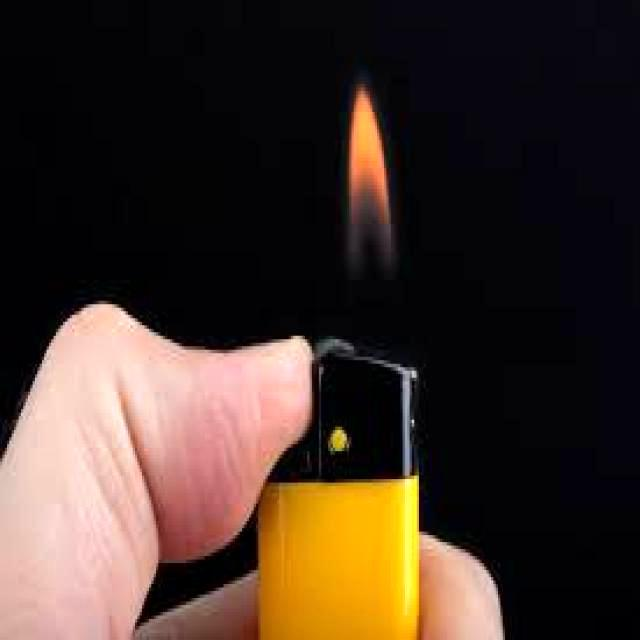fire: (322, 56, 414, 372)
